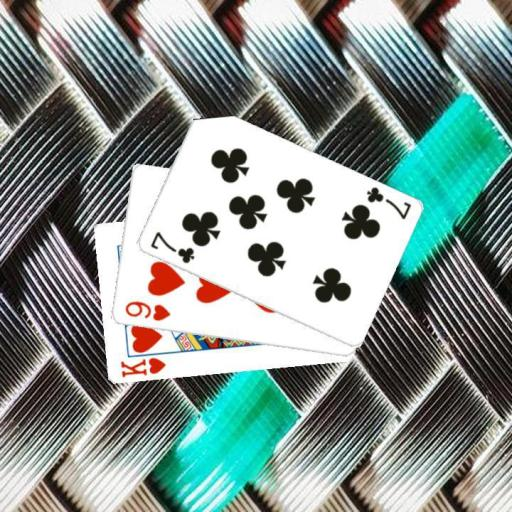7C: (147, 229, 197, 266), (363, 184, 413, 221)
9H: (121, 298, 171, 323)
KH: (117, 355, 167, 379)
